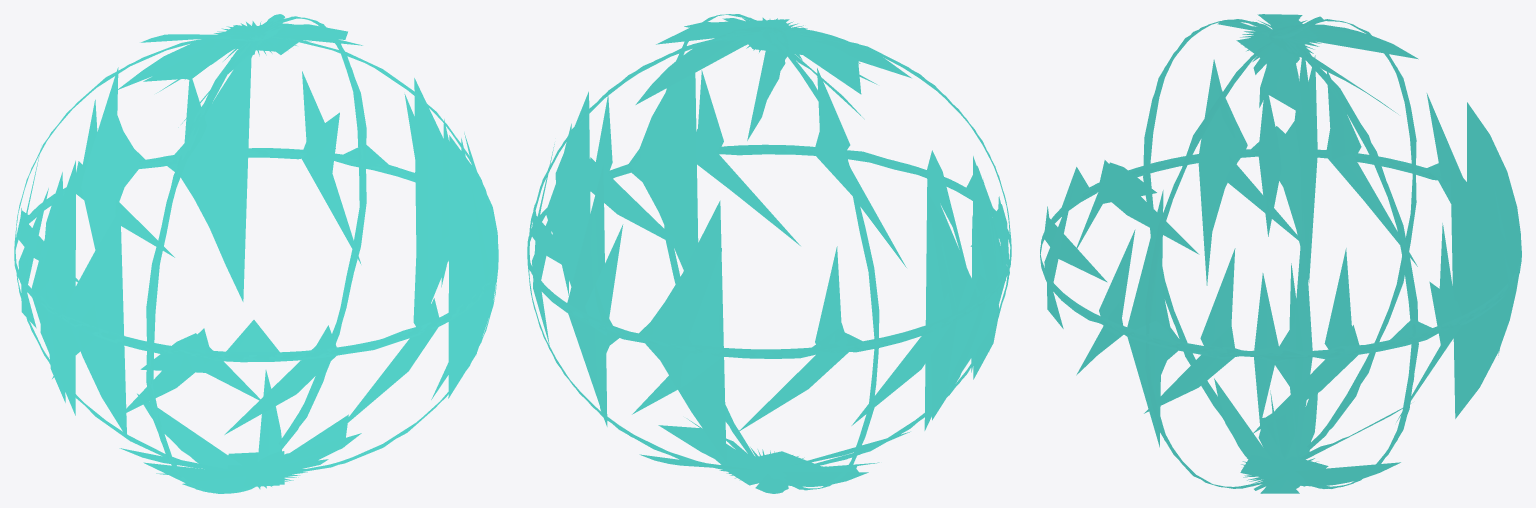
File: caissons.glb
3 renders of one model, left to right at view 1: azimuth 30°, elevation 25°; view 2: azimuth 150°, elevation 25°; view 3: azimuth 270°, elevation 25°, orthographic.
Visible parts, largest first — view 1: seawater_caisson; view 2: seawater_caisson; view 3: seawater_caisson.
Part boxes in pixels (x1,y1,x2,y2): seawater_caisson: (14, 14, 498, 493); seawater_caisson: (527, 14, 1011, 493); seawater_caisson: (1040, 14, 1521, 493).
Bounding box in the file's own units: 2 × 2 × 2.
